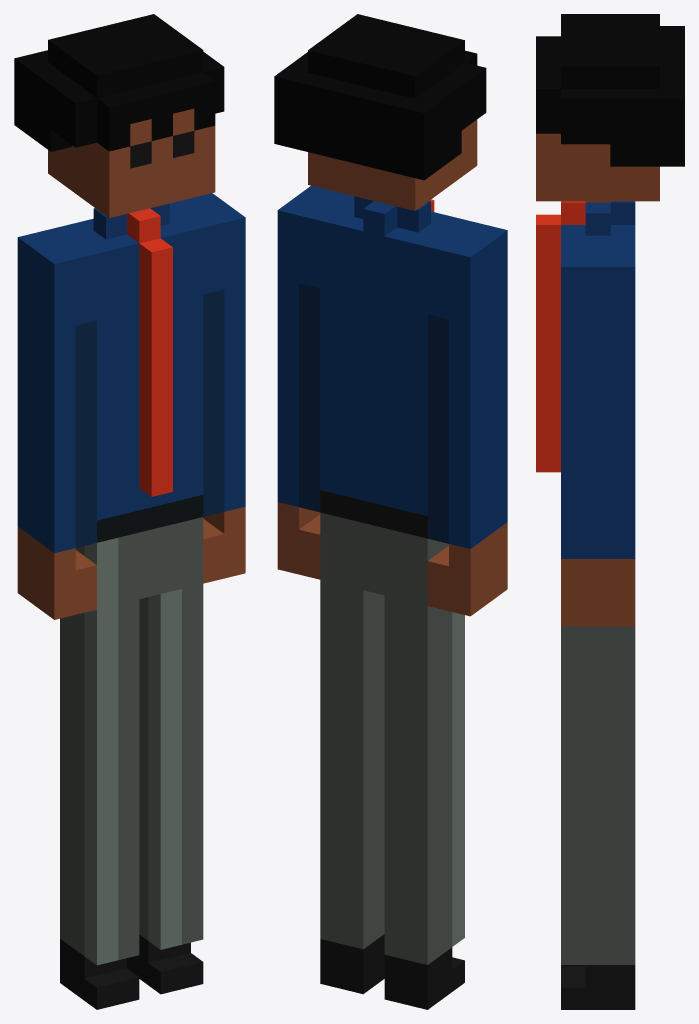
The model's file is Tony_Ethn3_Standing.obj.
The picture shows the model from 3 angles, left to right: view 1: azimuth 30°, elevation 25°; view 2: azimuth 150°, elevation 25°; view 3: azimuth 270°, elevation 25°; orthographic projection.
Parts seen in each view (by area): view 1: Tony_Ethn3_Standing; view 2: Tony_Ethn3_Standing; view 3: Tony_Ethn3_Standing.
Part boxes in pixels (left/top/right/bottom): Tony_Ethn3_Standing: left=14, top=14, right=245, bottom=1009; Tony_Ethn3_Standing: left=274, top=14, right=507, bottom=1009; Tony_Ethn3_Standing: left=536, top=14, right=684, bottom=1009.
Bounding box in the file's own units: 9 × 42 × 6.
Materials: 1 (1 with a texture image).
